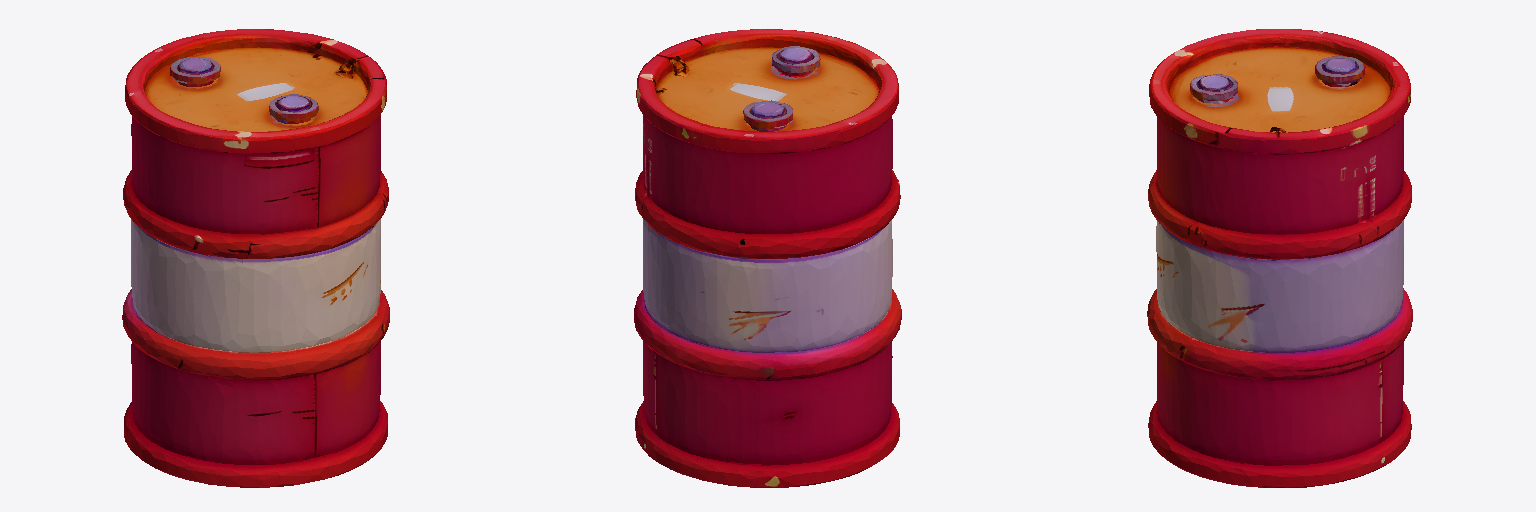
3 views of the same model, side by side, from view 1: azimuth 30°, elevation 25°; view 2: azimuth 150°, elevation 25°; view 3: azimuth 270°, elevation 25° (orthographic).
Visible parts, largest first — view 1: 0_1234_50_5.0_384_8000; view 2: 0_1234_50_5.0_384_8000; view 3: 0_1234_50_5.0_384_8000.
Part boxes in pixels (x1,y1,x2,y2): 0_1234_50_5.0_384_8000: (122, 29, 389, 487); 0_1234_50_5.0_384_8000: (634, 29, 901, 487); 0_1234_50_5.0_384_8000: (1147, 29, 1412, 487).
Size of the model in its own units: 1.35 by 1.99 by 1.35.
Materials: 1 (1 with a texture image).